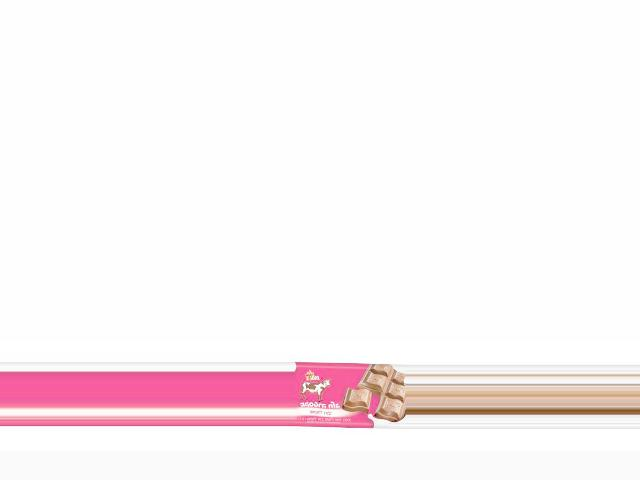chocolate: (293, 364, 405, 429)
